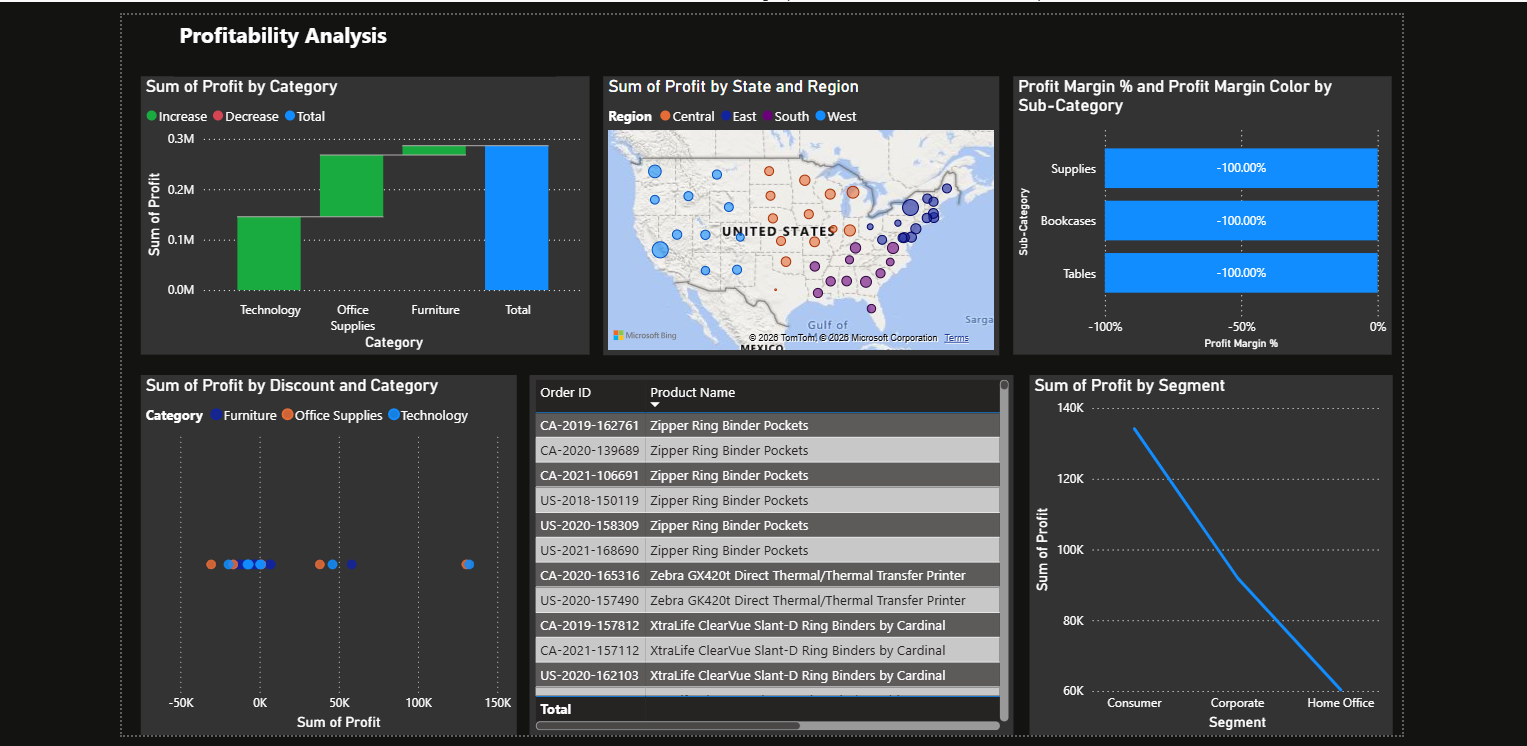

The page's visual inventory and layout, read from the dashboard file:
{"tool":"powerbi","page":{"name":"Page 3","canvas":[1280,720],"ordinal":2},"visuals":[{"type":"waterfallChart","fields":{"Y":["Sum(E-Commerce.Profit)"],"Category":["E-Commerce.Category"]},"box":[18.6,61.4,448.6,278.6],"z":0},{"type":"scatterChart","fields":{"Category":["E-Commerce.Discount"],"X":["Sum(E-Commerce.Profit)"],"Series":["E-Commerce.Category"]},"box":[18.6,360,375.7,360],"z":1000},{"type":"map","fields":{"Series":["E-Commerce.Region"],"Category":["E-Commerce.State"],"Size":["Sum(E-Commerce.Profit)"]},"box":[481.4,61.4,395.7,278.6],"z":2000},{"type":"tableEx","fields":{"Values":["E-Commerce.Order ID","E-Commerce.Product Name","Sum(E-Commerce.Sales)","Sum(E-Commerce.Discount)","Sum(E-Commerce.Profit)"]},"box":[407.1,360,484.3,360],"z":3000},{"type":"lineChart","fields":{"Y":["Sum(E-Commerce.Profit)"],"Category":["E-Commerce.Segment"]},"box":[907.1,360,362.9,360],"z":4000},{"type":"hundredPercentStackedBarChart","fields":{"Y":["measure_.Profit Margin %"],"Category":["E-Commerce.Sub-Category"]},"box":[891.4,61.4,378.6,278.6],"z":5000},{"type":"textbox","box":[52.9,0,381.4,61.4],"z":6000}]}

Visuals, with their boxes on the page's 1280x720 design canvas (x1, y1, x2, y2). These are canvas units, not pixel positions in the 1527x746 screenshot, which may show the page scaled, cropped or inside an application window:
waterfallChart - Sum(E-Commerce.Profit) x E-Commerce.Category: 19, 61, 467, 340
scatterChart - E-Commerce.Discount x Sum(E-Commerce.Profit): 19, 360, 394, 720
map - E-Commerce.Region x E-Commerce.State: 481, 61, 877, 340
tableEx - E-Commerce.Order ID x E-Commerce.Product Name: 407, 360, 891, 720
lineChart - Sum(E-Commerce.Profit) x E-Commerce.Segment: 907, 360, 1270, 720
hundredPercentStackedBarChart - measure_.Profit Margin % x E-Commerce.Sub-Category: 891, 61, 1270, 340
textbox: 53, 0, 434, 61
